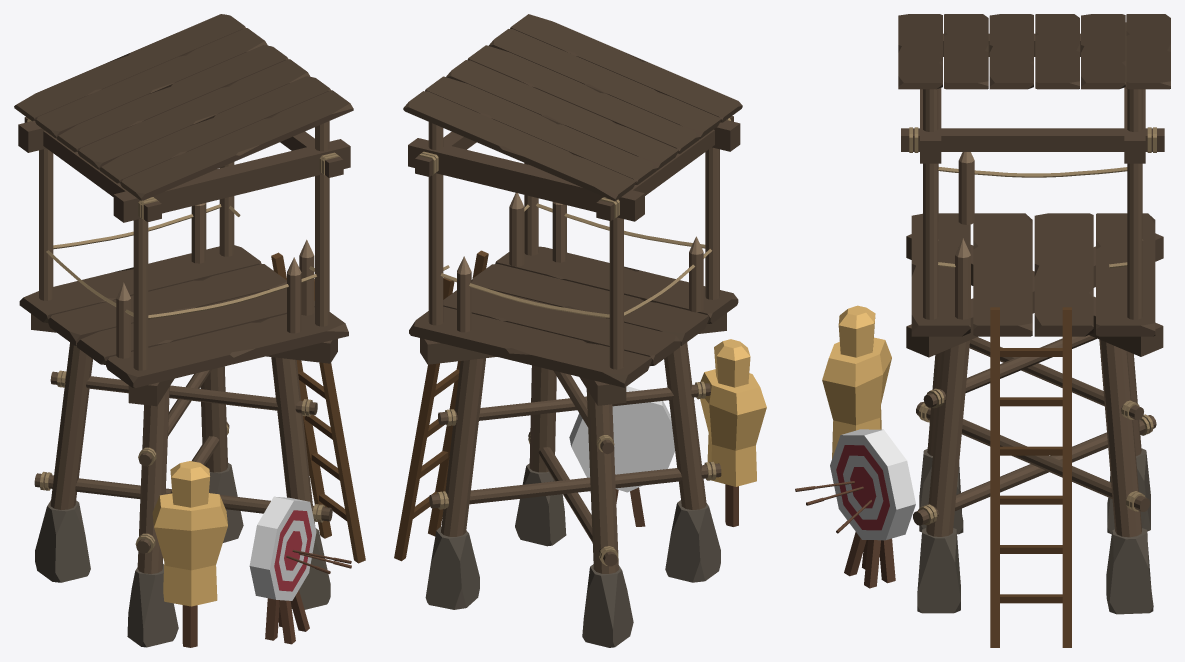
The picture shows the model from 3 angles, left to right: view 1: azimuth 30°, elevation 25°; view 2: azimuth 150°, elevation 25°; view 3: azimuth 270°, elevation 25°; orthographic projection. The views are drawn at different scales.
Visible parts, largest first — view 1: Dummy.002, Cube.060, Cylinder.003, Cube.064, Cube.071, Cube.058, Cube.066, Cube.068, Cube.067, Cube.065, Cube.069, Cube.057 (+31 smaller); view 2: Cube.057, Dummy.002, Cube.069, Cube.059, Cube.070, Cube.065, Cube.066, Cube.067, Cube.064, Cube.068, Cylinder.003, Cube.058 (+31 smaller); view 3: Cylinder.003, Cube.058, Cube.059, Dummy.002, Cube.057, Cube.072, Cylinder.046, Cylinder.045, Cube.060, Cube.063, Cube.056, Cube.061 (+25 smaller).
Part boxes in pixels (x1,y1,x2,y2): Dummy.002: (152, 461, 227, 647); Cube.060: (106, 307, 348, 387); Cylinder.003: (249, 496, 351, 644); Cube.064: (120, 90, 353, 200); Cube.071: (113, 139, 350, 222); Cube.058: (48, 264, 286, 345); Cube.066: (77, 59, 310, 169); Cube.068: (35, 28, 267, 138); Cube.067: (56, 45, 288, 152); Cube.065: (99, 76, 330, 183); Cube.069: (14, 14, 245, 121); Cube.057: (19, 245, 261, 322); Cube.057: (409, 306, 651, 387); Dummy.002: (700, 339, 766, 526); Cube.069: (403, 91, 636, 201); Cube.059: (471, 264, 709, 345); Cube.070: (408, 138, 644, 221); Cube.065: (488, 29, 721, 138); Cube.066: (467, 45, 699, 153); Cube.067: (446, 60, 678, 170); Cube.064: (510, 14, 742, 122); Cube.068: (425, 76, 657, 184); Cylinder.003: (569, 386, 674, 526); Cube.058: (443, 287, 680, 365); Cylinder.003: (795, 429, 915, 588); Cube.058: (1034, 213, 1093, 336); Cube.059: (973, 213, 1032, 336); Dummy.002: (822, 305, 891, 458); Cube.057: (1096, 213, 1155, 336); Cube.072: (901, 127, 1164, 152); Cylinder.046: (926, 340, 969, 536); Cylinder.045: (1099, 339, 1141, 537); Cube.060: (911, 213, 970, 336); Cube.063: (1000, 348, 1062, 603); Cube.056: (1106, 528, 1153, 614); Cube.061: (1062, 307, 1071, 647).
Bounding box in the file's own units: 10 × 17.42 × 11.04.
